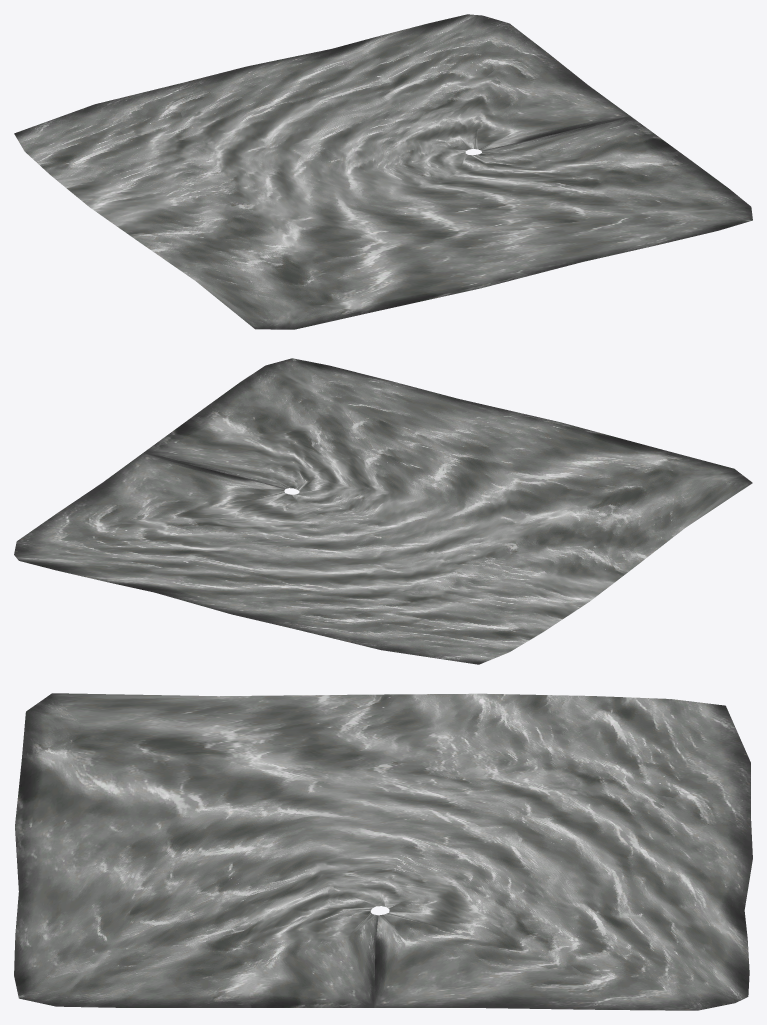
File: special_shower.dae
3 views of the same model, one above another, from view 1: azimuth 30°, elevation 25°; view 2: azimuth 150°, elevation 25°; view 3: azimuth 270°, elevation 25° (orthographic). The views are drawn at different scales.
Visible parts, largest first — view 1: shower; view 2: shower; view 3: shower.
Part boxes in pixels (x1=…): shower: x1=14, y1=14, x2=752, y2=329; shower: x1=14, y1=358, x2=752, y2=664; shower: x1=14, y1=693, x2=752, y2=1010.
Size of the model in its own units: 1.52 by 0 by 1.49.
